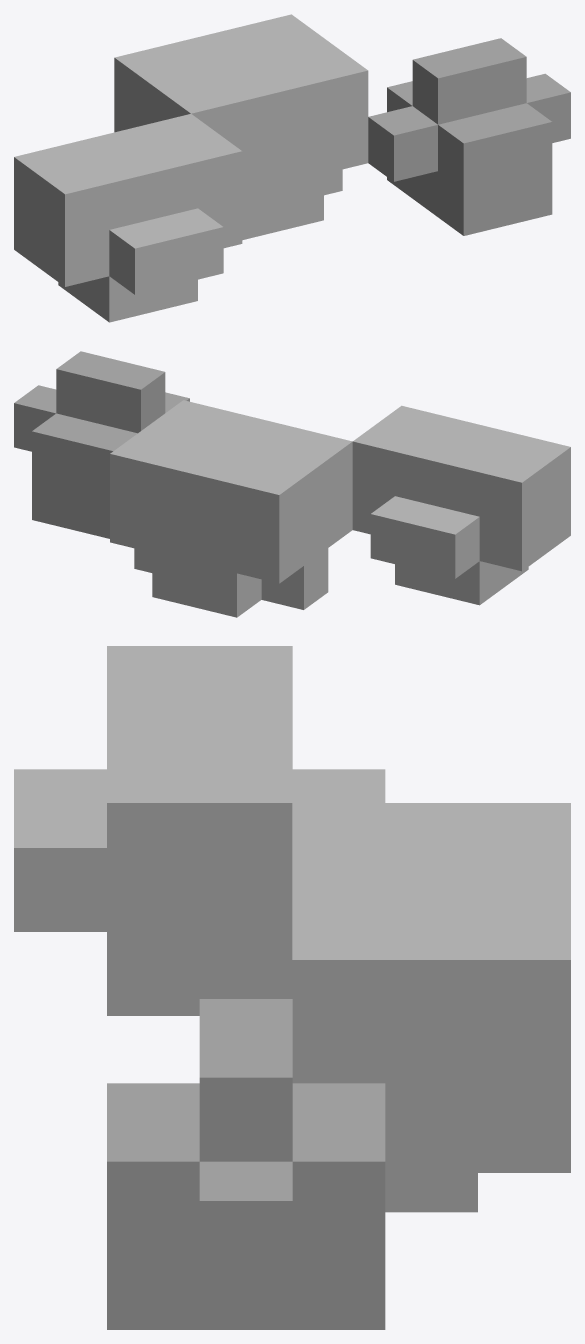
Rendered from item_BLAND_CHUNKS.glb.
The picture shows the model from 3 angles, top to bottom: view 1: azimuth 30°, elevation 25°; view 2: azimuth 150°, elevation 25°; view 3: azimuth 270°, elevation 25°; orthographic projection. The views are drawn at different scales.
Parts seen in each view (by area): view 1: item_BLAND_CHUNKS; view 2: item_BLAND_CHUNKS; view 3: item_BLAND_CHUNKS.
Part boxes in pixels (left/top/right/bottom): item_BLAND_CHUNKS: left=14, top=14, right=570, bottom=322; item_BLAND_CHUNKS: left=14, top=351, right=570, bottom=617; item_BLAND_CHUNKS: left=14, top=646, right=570, bottom=1329.
Bounding box in the file's own units: 0.2727 × 0.0682 × 0.1364.
1 material, 1 textured.
